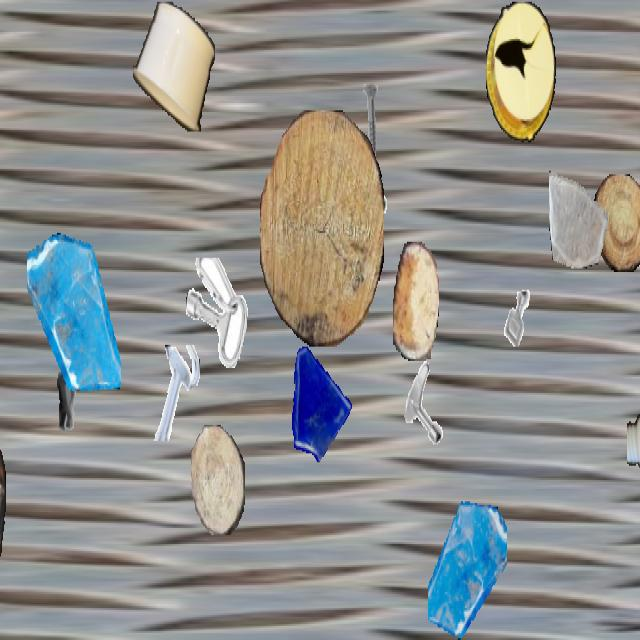glass: (27, 231, 121, 398), (428, 500, 506, 638), (282, 336, 352, 460), (549, 164, 607, 266)
metal: (335, 176, 397, 286), (186, 258, 248, 368), (148, 345, 202, 441), (398, 356, 452, 452), (42, 359, 92, 448), (347, 80, 395, 165), (496, 279, 540, 357)
plastic: (133, 2, 215, 130), (486, 2, 556, 140), (627, 313, 640, 498), (0, 414, 5, 585)
wood: (260, 110, 384, 345), (191, 425, 245, 535), (393, 242, 439, 359), (593, 174, 640, 270)
